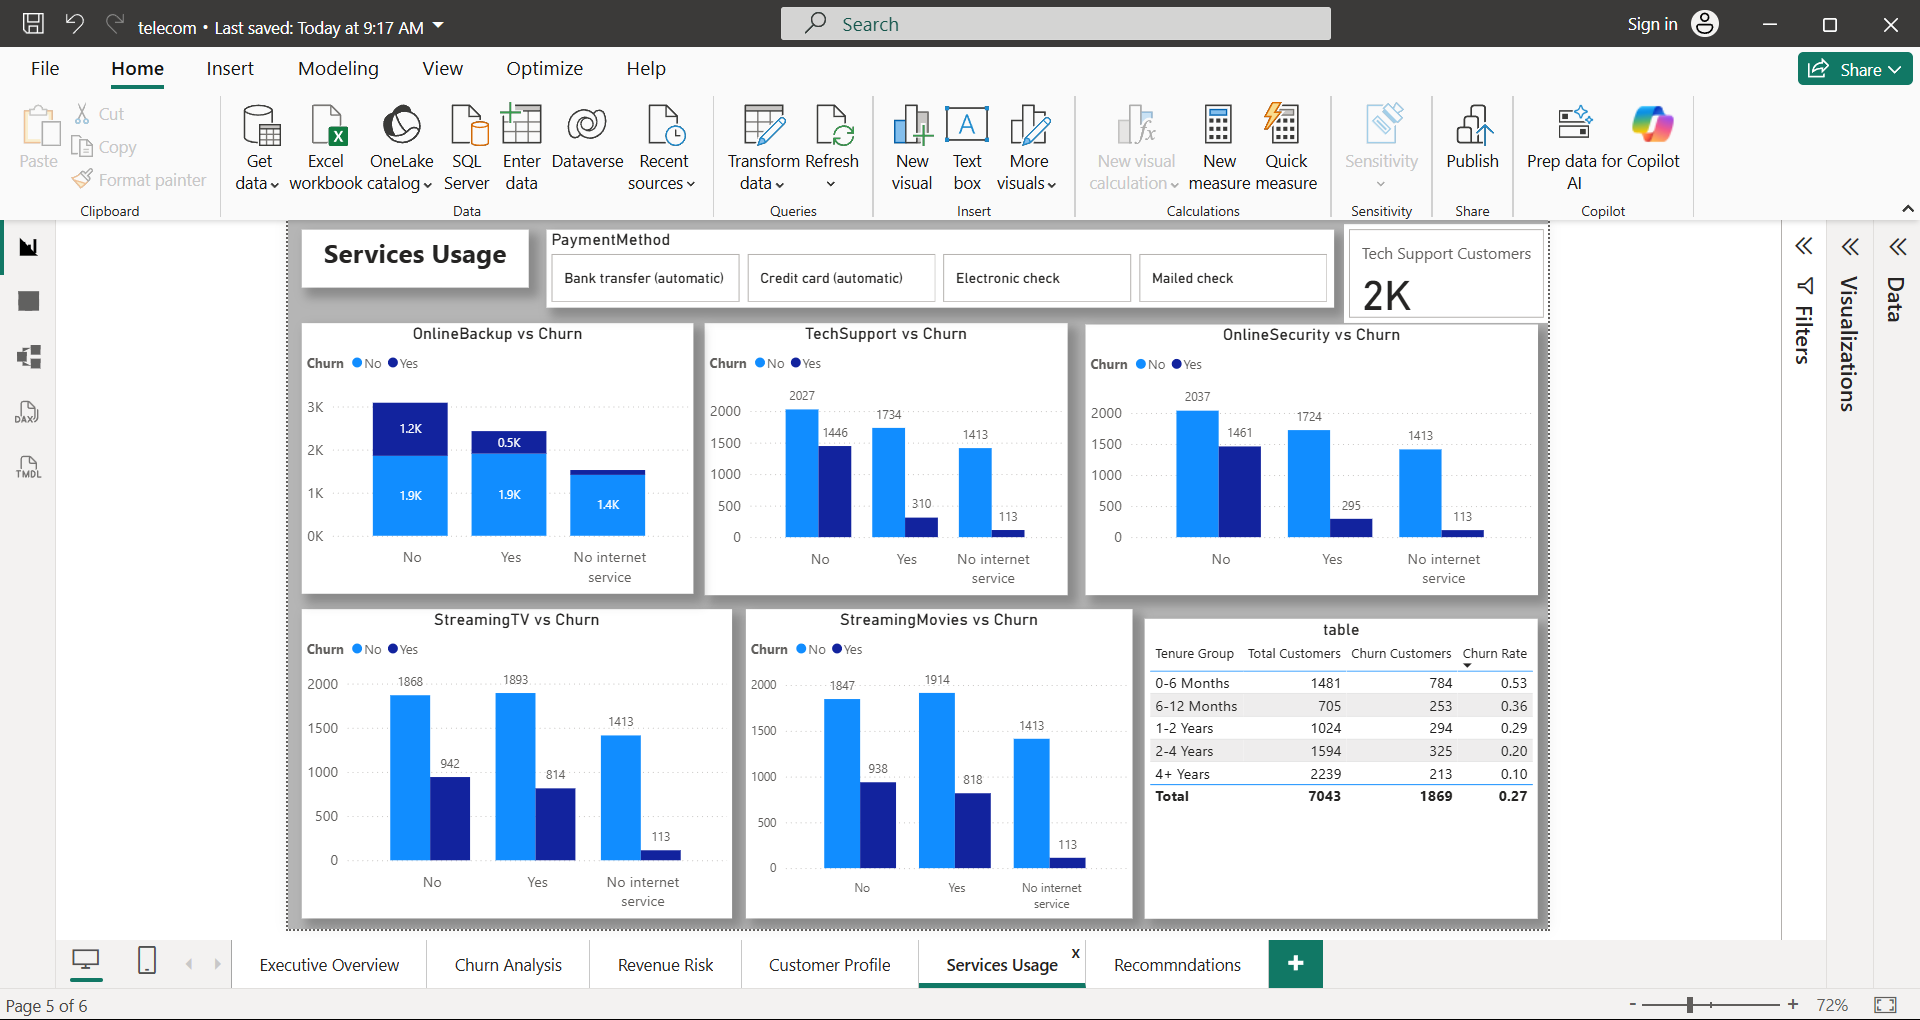

This screenshot's page, from the dashboard's own definition file:
{"tool":"powerbi","page":{"name":"Services Usage","canvas":[1280,720],"ordinal":4},"visuals":[{"type":"clusteredColumnChart","title":" TechSupport vs Churn","fields":{"Category":["Telco-Customer-Churn.TechSupport"],"Y":["Measure_table.Total Customers"],"Series":["Telco-Customer-Churn.Churn"]},"box":[423.2,104.7,368.7,276.5],"z":0},{"type":"clusteredColumnChart","title":" StreamingTV vs Churn","fields":{"Category":["Telco-Customer-Churn.StreamingTV"],"Series":["Telco-Customer-Churn.Churn"],"Y":["Measure_table.Total Customers"]},"box":[14,395.2,437.1,314.2],"z":1000},{"type":"clusteredColumnChart","title":"OnlineSecurity vs Churn","fields":{"Category":["Telco-Customer-Churn.OnlineSecurity"],"Series":["Telco-Customer-Churn.Churn"],"Y":["Measure_table.Total Customers"]},"box":[810,106.1,459.5,275.1],"z":2000},{"type":"clusteredColumnChart","title":" StreamingMovies vs Churn","fields":{"Category":["Telco-Customer-Churn.StreamingMovies"],"Y":["Measure_table.Total Customers"],"Series":["Telco-Customer-Churn.Churn"]},"box":[465.1,395.2,392.4,314.2],"z":3000},{"type":"columnChart","title":" OnlineBackup vs Churn","fields":{"Category":["Telco-Customer-Churn.OnlineBackup"],"Y":["Measure_table.Total Customers"],"Series":["Telco-Customer-Churn.Churn"]},"box":[14,104.7,398,275.1],"z":4000},{"type":"advancedSlicerVisual","fields":{"Values":["Telco-Customer-Churn.PaymentMethod"]},"box":[262.6,9.8,800.3,79.6],"z":5000},{"type":"textbox","box":[14,9.8,230.4,58.7],"z":6000},{"type":"cardVisual","fields":{"Data":["Measure_table.Tech Support Customers"]},"box":[1072.6,4.2,208.1,100.6],"z":7000},{"type":"tableEx","title":"table","fields":{"Values":["Telco-Customer-Churn.Tenure Group","Measure_table.Total Customers","Measure_table.Churn Customers","Measure_table.Churn Rate"]},"box":[870.1,405,399.4,304.5],"z":8000}]}

Visuals, with their boxes on the page's 1280x720 design canvas (x1, y1, x2, y2). These are canvas units, not pixel positions in the 1920x1020 screenshot, which may show the page scaled, cropped or inside an application window:
" TechSupport vs Churn" clusteredColumnChart: BBox(423, 105, 792, 381)
" StreamingTV vs Churn" clusteredColumnChart: BBox(14, 395, 451, 709)
"OnlineSecurity vs Churn" clusteredColumnChart: BBox(810, 106, 1270, 381)
" StreamingMovies vs Churn" clusteredColumnChart: BBox(465, 395, 858, 709)
" OnlineBackup vs Churn" columnChart: BBox(14, 105, 412, 380)
advancedSlicerVisual - Telco-Customer-Churn.PaymentMethod: BBox(263, 10, 1063, 89)
textbox: BBox(14, 10, 244, 68)
cardVisual - Measure_table.Tech Support Customers: BBox(1073, 4, 1281, 105)
"table" tableEx: BBox(870, 405, 1270, 710)
